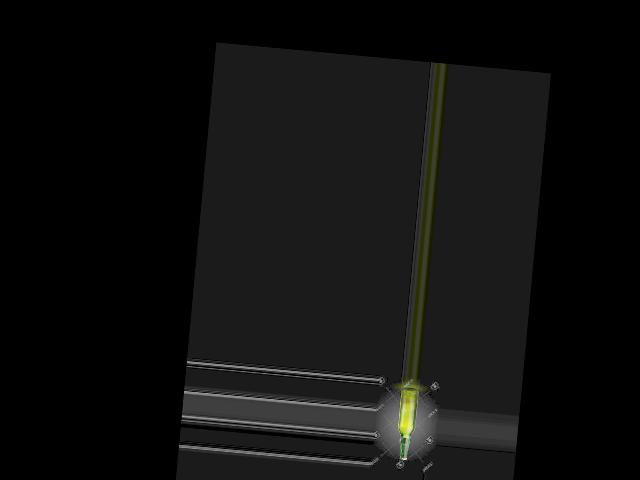beer: (394, 387, 418, 460)
